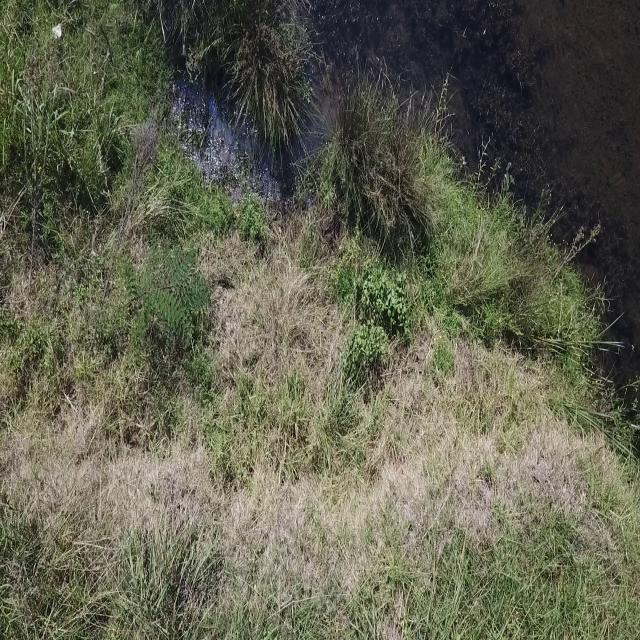Mysore-Thorn-Weed: (120, 233, 213, 367)
